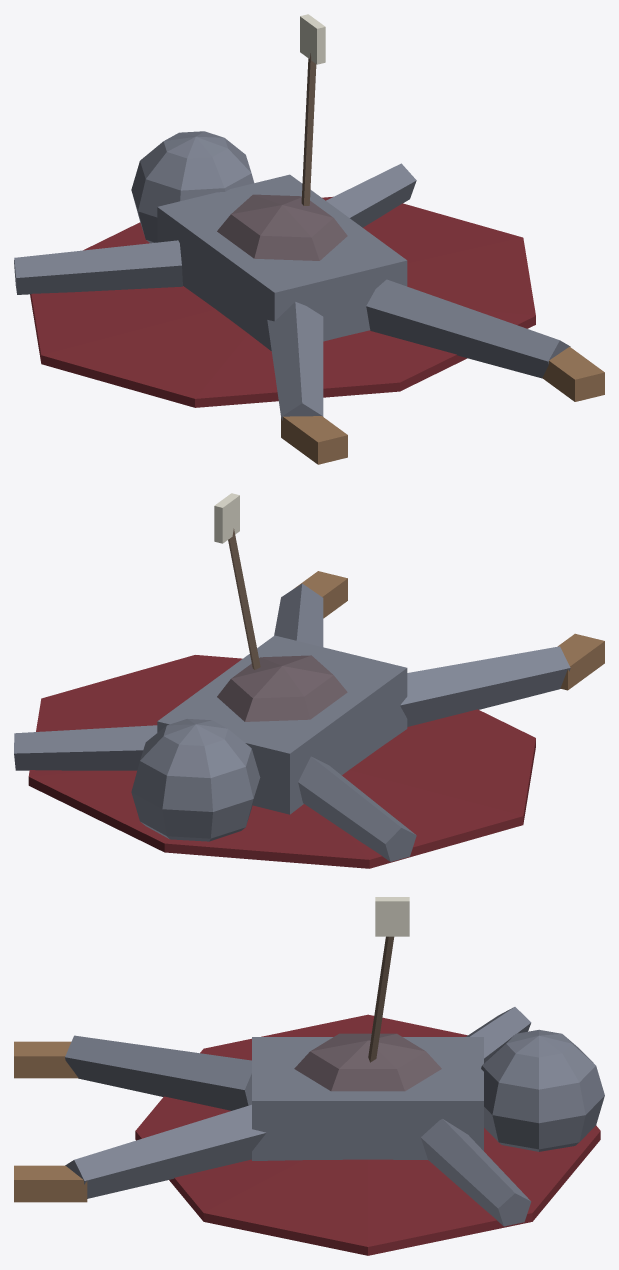
File: corpse_0.glb
3 renders of one model, top to bottom at view 1: azimuth 30°, elevation 25°; view 2: azimuth 150°, elevation 25°; view 3: azimuth 270°, elevation 25°, orthographic.
Visible parts, largest first — view 1: corpse_0; view 2: corpse_0; view 3: corpse_0.
Boxes of the visible parts, x1,y1,x2,y2 form: corpse_0: (14,14,604,464); corpse_0: (14,493,604,868); corpse_0: (14,897,604,1255).
Size of the model in its own units: 2.25 by 1.25 by 2.42.
